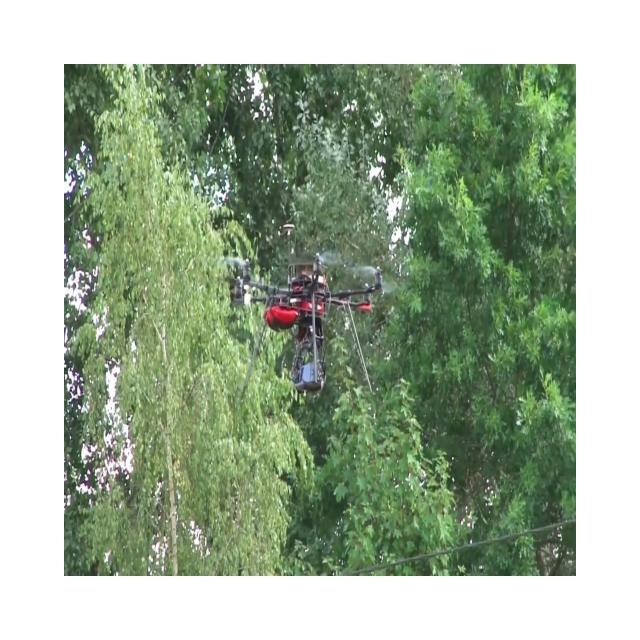drone: (218, 222, 384, 404)
